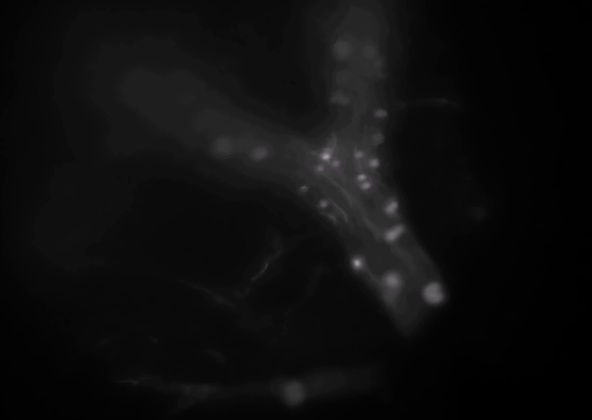cell: (429, 287, 443, 301), (374, 107, 388, 121), (352, 147, 366, 161), (366, 157, 380, 171), (315, 144, 329, 158), (313, 159, 327, 173), (329, 156, 343, 170), (326, 90, 340, 104), (356, 169, 370, 183), (337, 92, 351, 106), (360, 178, 374, 192), (349, 258, 363, 272), (384, 273, 398, 287), (384, 227, 398, 241), (387, 198, 401, 212), (391, 223, 405, 237), (384, 205, 398, 219), (316, 199, 330, 213), (296, 181, 310, 195), (253, 146, 267, 160), (212, 139, 226, 153), (363, 45, 377, 59), (371, 54, 385, 68), (336, 44, 350, 58), (371, 130, 385, 144), (320, 150, 334, 164), (249, 149, 263, 163)
